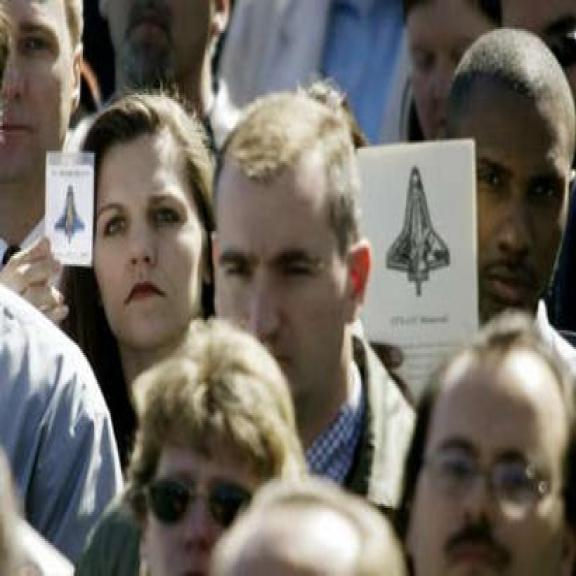face: (406, 341, 576, 574), (212, 168, 374, 404), (450, 63, 576, 336), (80, 125, 216, 356), (132, 389, 274, 576), (0, 0, 86, 192), (403, 2, 498, 151)
